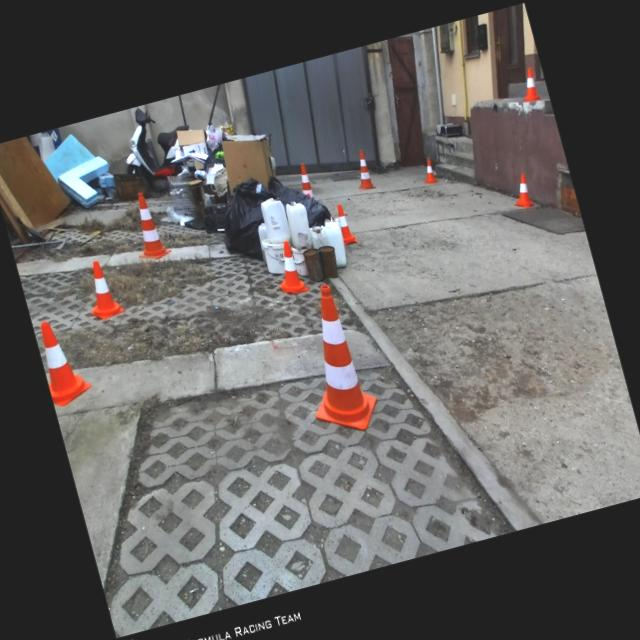large_orange_cone: (283, 279, 382, 442), (123, 188, 172, 263), (348, 148, 376, 192), (295, 162, 314, 201)
orange_cone: (32, 314, 94, 408), (78, 258, 126, 322), (268, 238, 308, 296), (333, 202, 358, 246), (507, 172, 534, 210), (514, 66, 540, 104), (418, 158, 437, 185)
